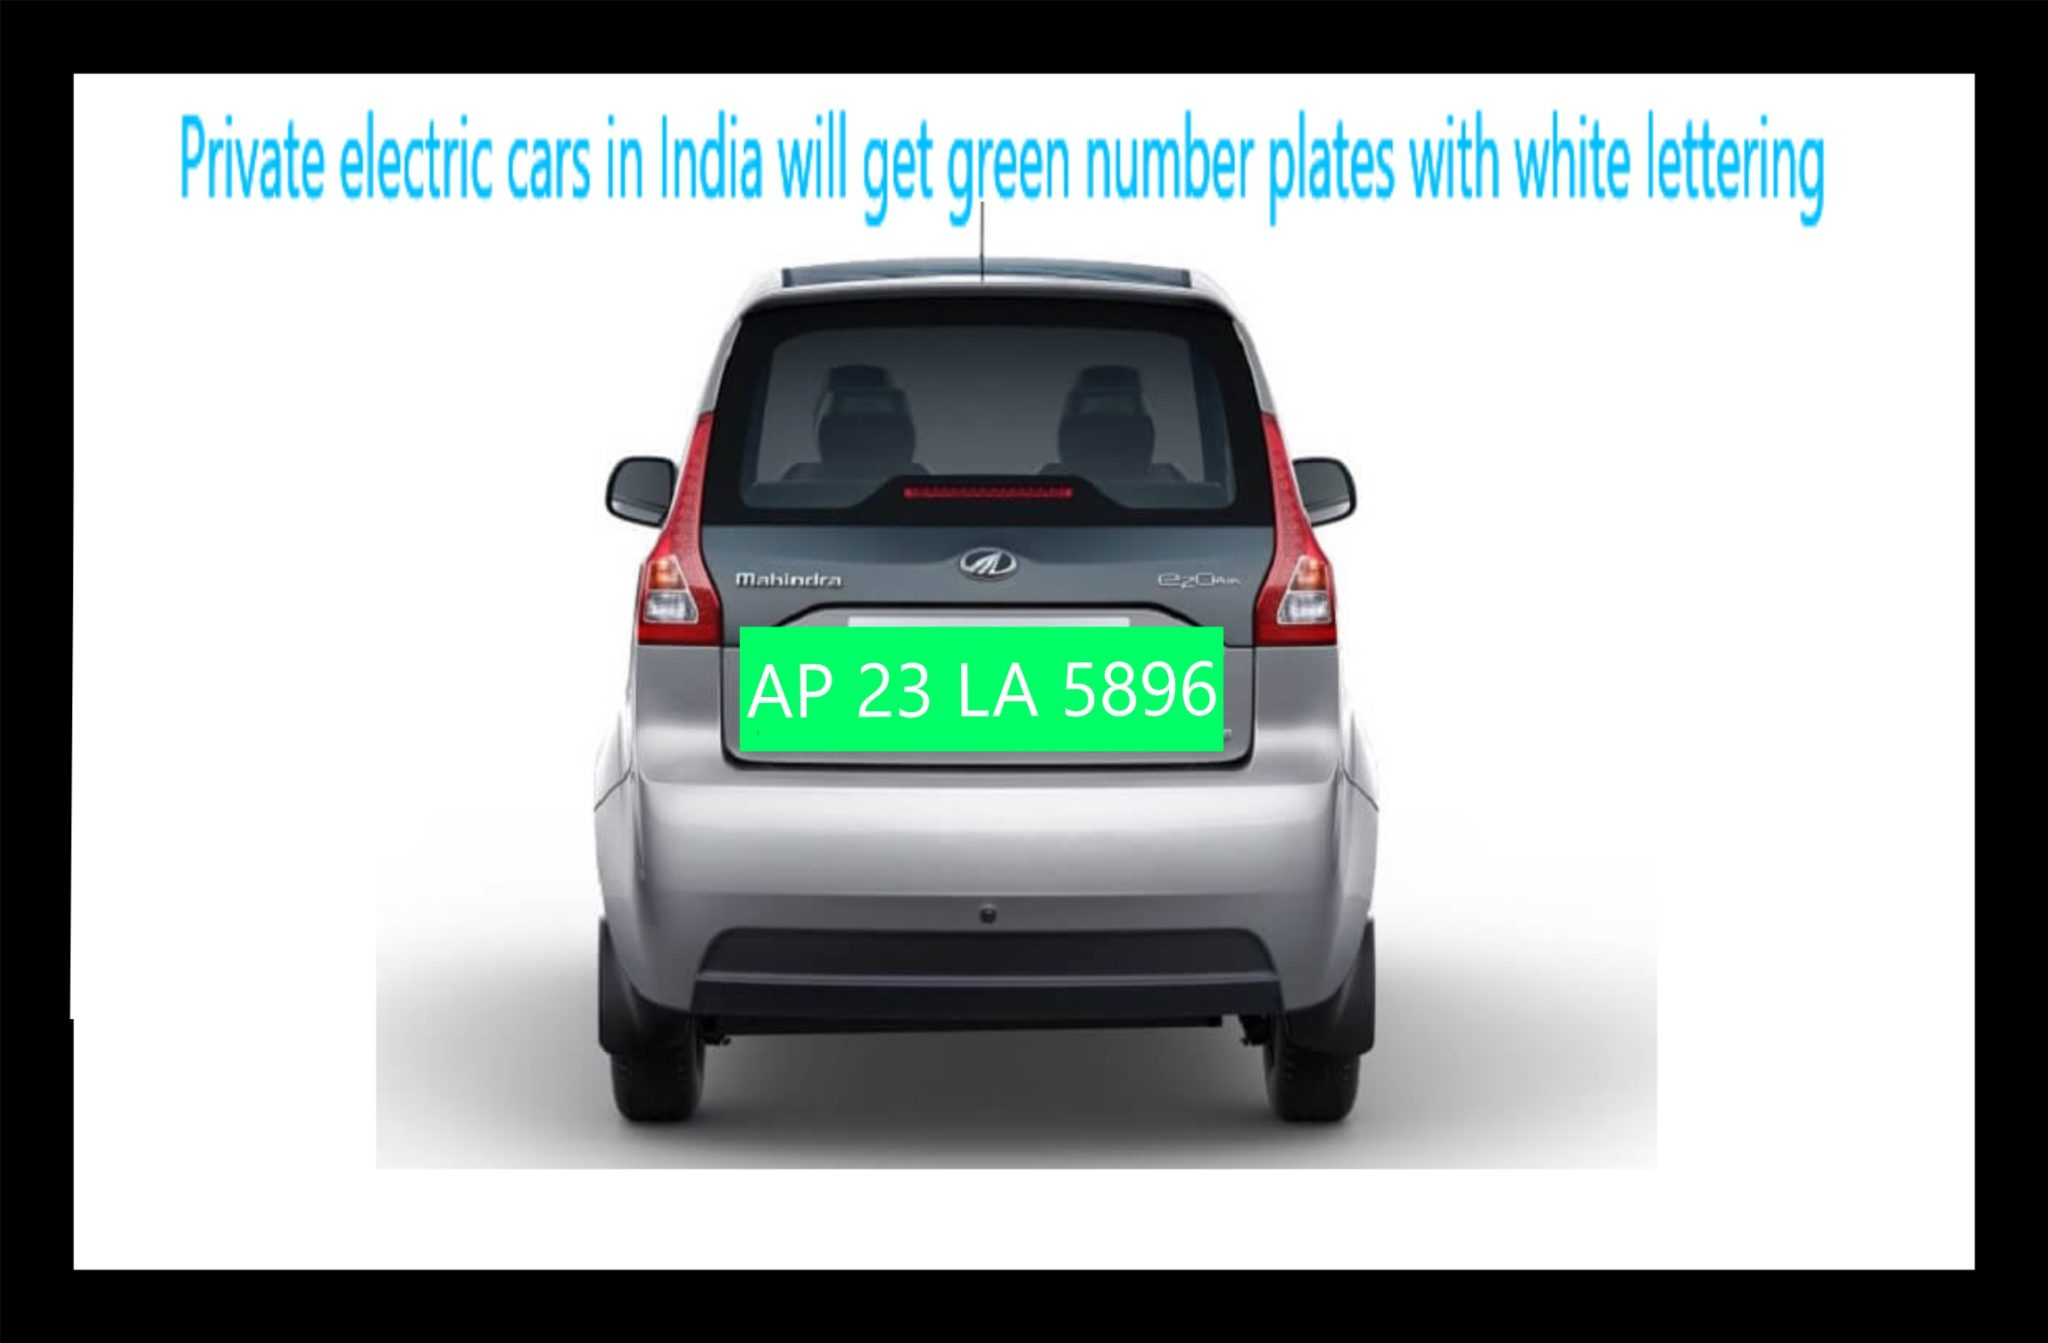number_plate: (739, 627, 1224, 758)
